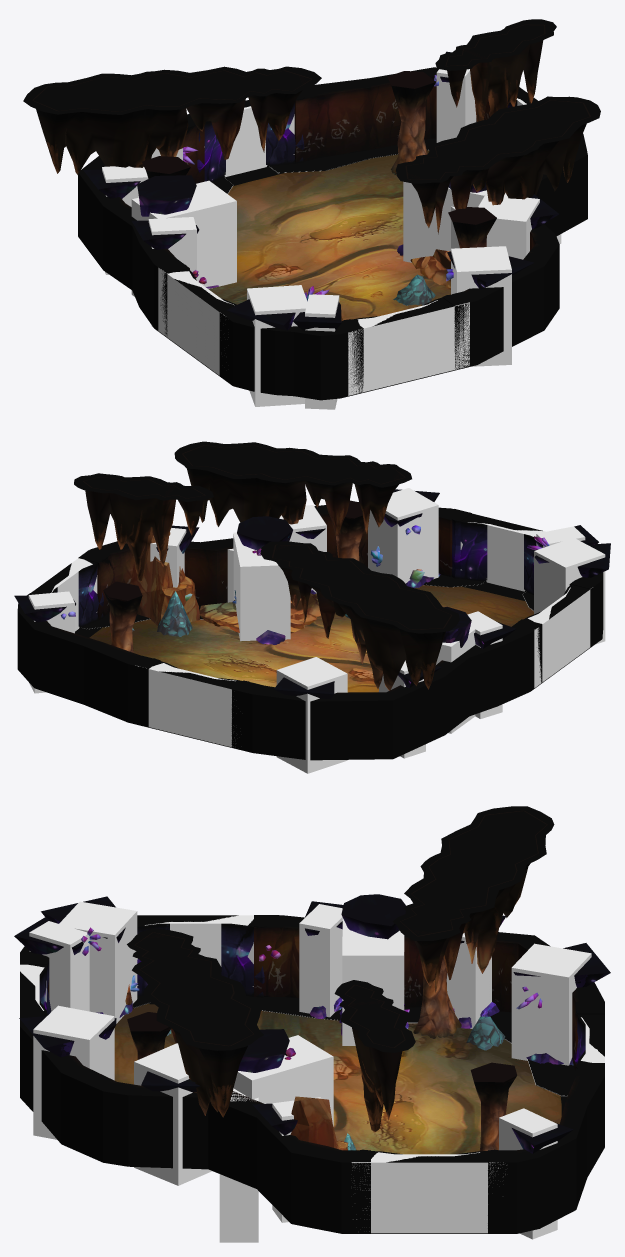
The model's file is Dungeon_101_BossRoom.fbx.
3 views of the same model, one above another, from view 1: azimuth 30°, elevation 25°; view 2: azimuth 150°, elevation 25°; view 3: azimuth 270°, elevation 25° (orthographic). The views are drawn at different scales.
Visible parts, largest first — view 1: Dun_011_Room_003_wall, Dun_011_Room_003_ground, Dungeon_011_Iwa004_3, DoorWay_NavMask (1) (×3), Dungeon_011_Iwa004_2, Dungeon_011_Iwa004_1, Dun_101_Room_007_Object02, Dungeon_011_Object_010 (×3), Dun_101_Door_002 (×3), Cube_11, Cube_09, Cube_08 (+9 smaller); view 2: Dun_011_Room_003_wall, Dungeon_011_Iwa004_3, Dungeon_011_Iwa004_2, Dun_011_Room_003_ground, DoorWay_NavMask (1) (×4), Dun_101_Door_002 (×4), Dungeon_011_Iwa004_1, Dun_101_Room_007_Object02, Cube_09, Cube_08, Cube_01, Dungeon_011_Object_010 (×2) (+14 smaller); view 3: Dun_011_Room_003_wall, Dun_011_Room_003_ground, Dungeon_011_Iwa004_3, Dungeon_011_Iwa004_2, Dun_101_Room_007_Object02, DoorWay_NavMask (1) (×2), Dun_101_Door_002 (×4), Cube_02, Dungeon_011_Iwa004_1, Dungeon_011_Object_010 (×3), Cube_01, Cube_09 (+12 smaller).
Boxes of the visible parts, bbox=[...] form: Dun_011_Room_003_wall: bbox=[78, 67, 587, 400]; Dun_011_Room_003_ground: bbox=[208, 150, 450, 320]; Dungeon_011_Iwa004_3: bbox=[23, 66, 321, 174]; DoorWay_NavMask (1) (×3): bbox=[158, 106, 469, 395]; Dungeon_011_Iwa004_2: bbox=[396, 96, 600, 234]; Dungeon_011_Iwa004_1: bbox=[435, 19, 556, 121]; Dun_101_Room_007_Object02: bbox=[83, 51, 558, 330]; Dungeon_011_Object_010 (×3): bbox=[142, 71, 496, 248]; Dun_101_Door_002 (×3): bbox=[156, 89, 473, 392]; Cube_11: bbox=[131, 180, 236, 296]; Cube_09: bbox=[451, 246, 511, 366]; Cube_08: bbox=[403, 181, 505, 262]; Dun_011_Room_003_wall: bbox=[17, 502, 603, 760]; Dungeon_011_Iwa004_3: bbox=[260, 541, 459, 690]; Dungeon_011_Iwa004_2: bbox=[174, 441, 411, 536]; Dun_011_Room_003_ground: bbox=[89, 585, 533, 692]; DoorWay_NavMask (1) (×4): bbox=[52, 523, 592, 747]; Dun_101_Door_002 (×4): bbox=[27, 509, 600, 747]; Dungeon_011_Iwa004_1: bbox=[74, 473, 213, 581]; Dun_101_Room_007_Object02: bbox=[14, 489, 610, 699]; Cube_09: bbox=[368, 488, 438, 583]; Cube_08: bbox=[233, 532, 290, 641]; Cube_01: bbox=[534, 537, 605, 644]; Dungeon_011_Object_010 (×2): bbox=[103, 500, 364, 652]; Dun_011_Room_003_wall: bbox=[20, 915, 604, 1233]; Dun_011_Room_003_ground: bbox=[114, 1003, 561, 1154]; Dungeon_011_Iwa004_3: bbox=[392, 806, 554, 992]; Dungeon_011_Iwa004_2: bbox=[127, 928, 263, 1117]; Dun_101_Room_007_Object02: bbox=[14, 894, 610, 1153]; DoorWay_NavMask (1) (×2): bbox=[162, 915, 506, 1233]; Dun_101_Door_002 (×4): bbox=[20, 915, 604, 1233]; Cube_02: bbox=[511, 943, 591, 1065]; Dungeon_011_Iwa004_1: bbox=[334, 980, 415, 1132]; Dungeon_011_Object_010 (×3): bbox=[127, 958, 517, 1151]; Cube_01: bbox=[58, 901, 137, 1023]; Cube_09: bbox=[33, 1005, 114, 1139].
Size of what is drawn, in the model's own units: 16.01 by 7 by 15.31.
